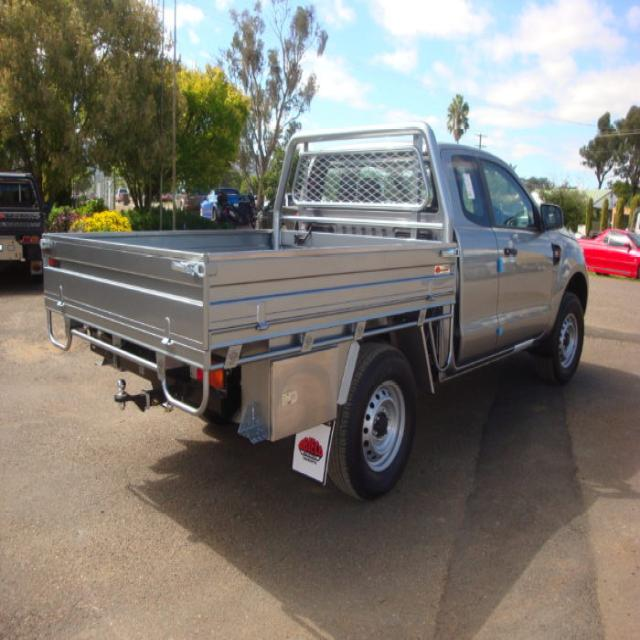light_vehicle: (40, 116, 627, 507)
